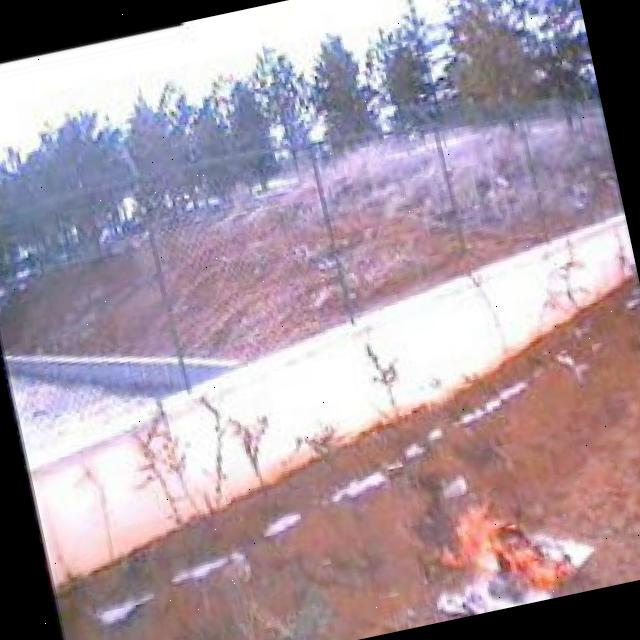fire: (412, 478, 582, 618)
